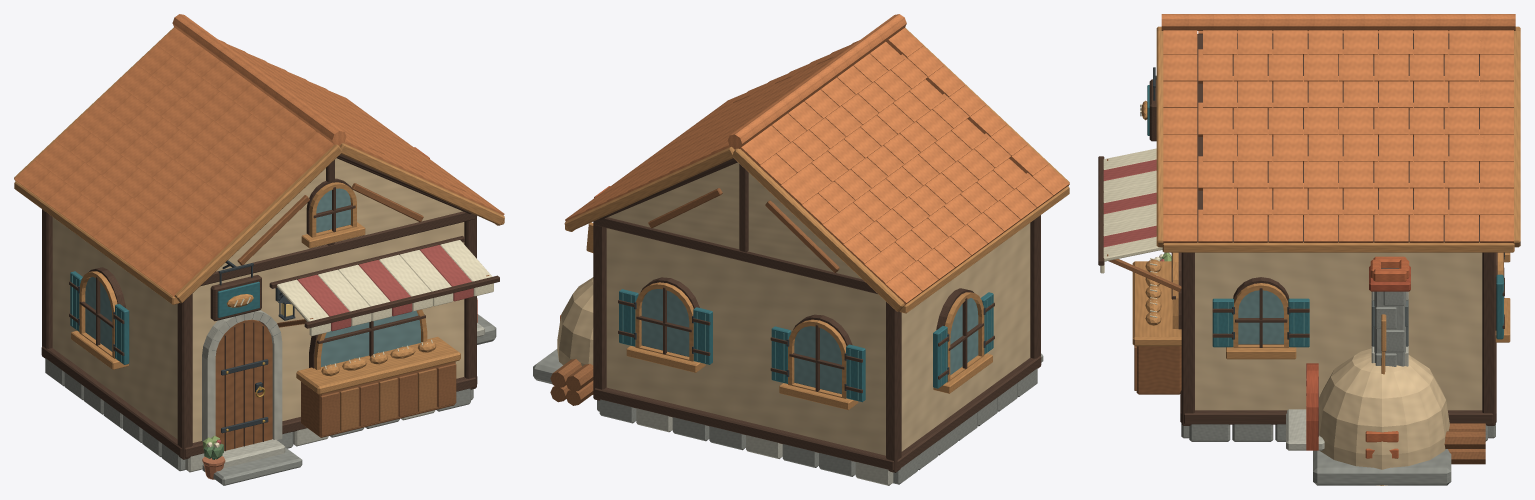
Rendered from building_bakery.glb.
The picture shows the model from 3 angles, left to right: view 1: azimuth 30°, elevation 25°; view 2: azimuth 150°, elevation 25°; view 3: azimuth 270°, elevation 25°; orthographic projection. The views are drawn at different scales.
Visible parts, largest first — view 1: building_bakery; view 2: building_bakery; view 3: building_bakery.
Part boxes in pixels (box(x1,y1,x2,y2)): building_bakery: box(14, 14, 504, 485); building_bakery: box(533, 14, 1069, 485); building_bakery: box(1098, 14, 1520, 485).
Size of the model in its own units: 6.37 by 4.89 by 5.34.
1 material, 1 textured.
